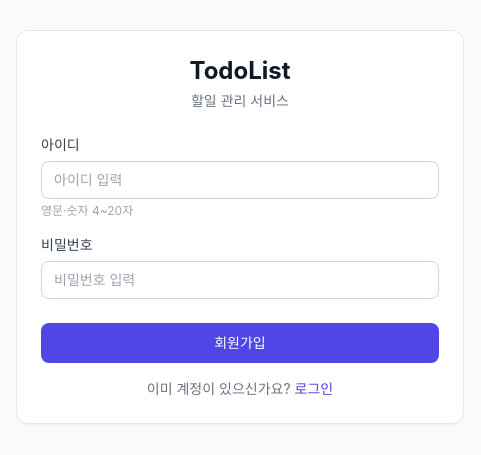
Scenario: RegisterPage › 빈 폼 제출 시 클라이언트 에러 메시지가 표시된다
Click the button "회원가입" at (240, 343), box [41,323,439,363]
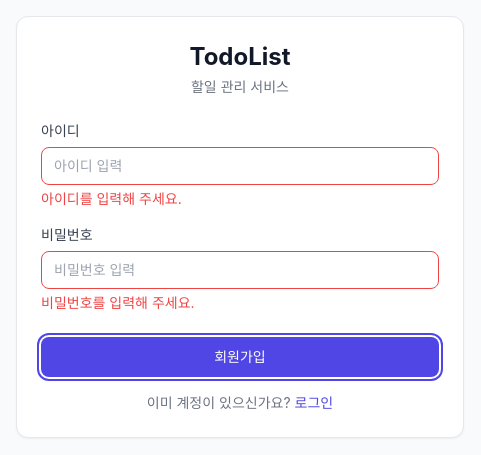
Now the text "아이디를 입력해 주세요." is shown, box [41,190,182,207]
Now the text "비밀번호를 입력해 주세요." is shown, box [41,294,195,311]
